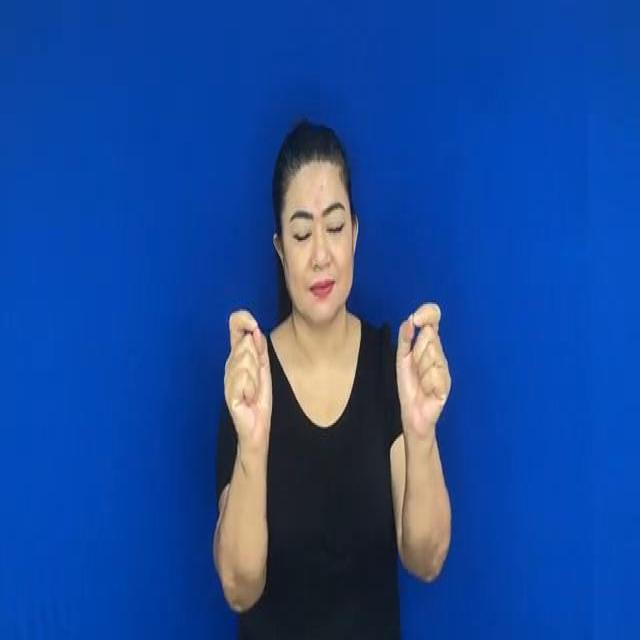crab: (387, 296, 456, 445), (222, 296, 282, 451)
